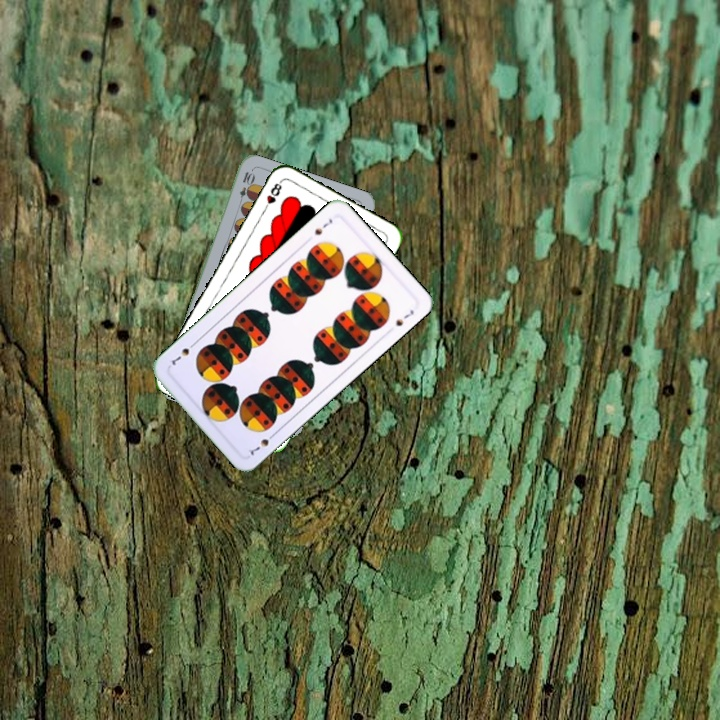E10: (235, 168, 256, 208)
H8: (259, 177, 284, 214)
S7: (244, 428, 279, 459), (310, 214, 335, 237)
